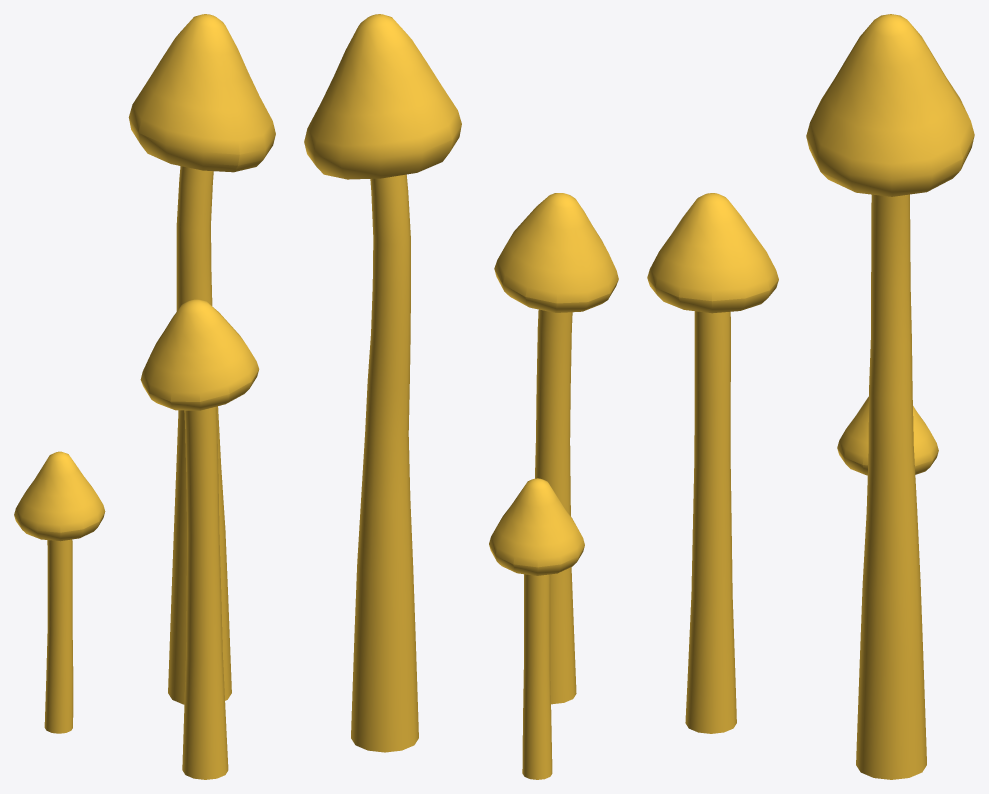
Rendered from yellow_mushroom.obj.
3 renders of one model, left to right at view 1: azimuth 30°, elevation 25°; view 2: azimuth 150°, elevation 25°; view 3: azimuth 270°, elevation 25°, orthographic. The views are drawn at different scales.
Parts seen in each view (by area): view 1: 000_Mushrooms; view 2: 000_Mushrooms; view 3: 000_Mushrooms.
Part boxes in pixels (bbox=[...]): 000_Mushrooms: bbox=[14, 14, 275, 779]; 000_Mushrooms: bbox=[304, 14, 618, 779]; 000_Mushrooms: bbox=[647, 14, 974, 779].
Bounding box in the file's own units: 15.41 × 40.33 × 15.93.
